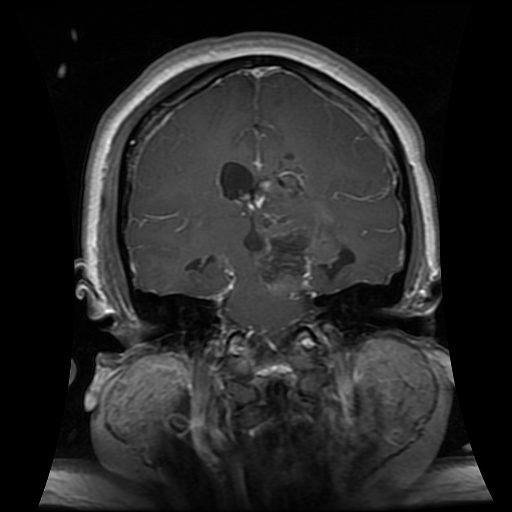glioma: (214, 146, 356, 301)
